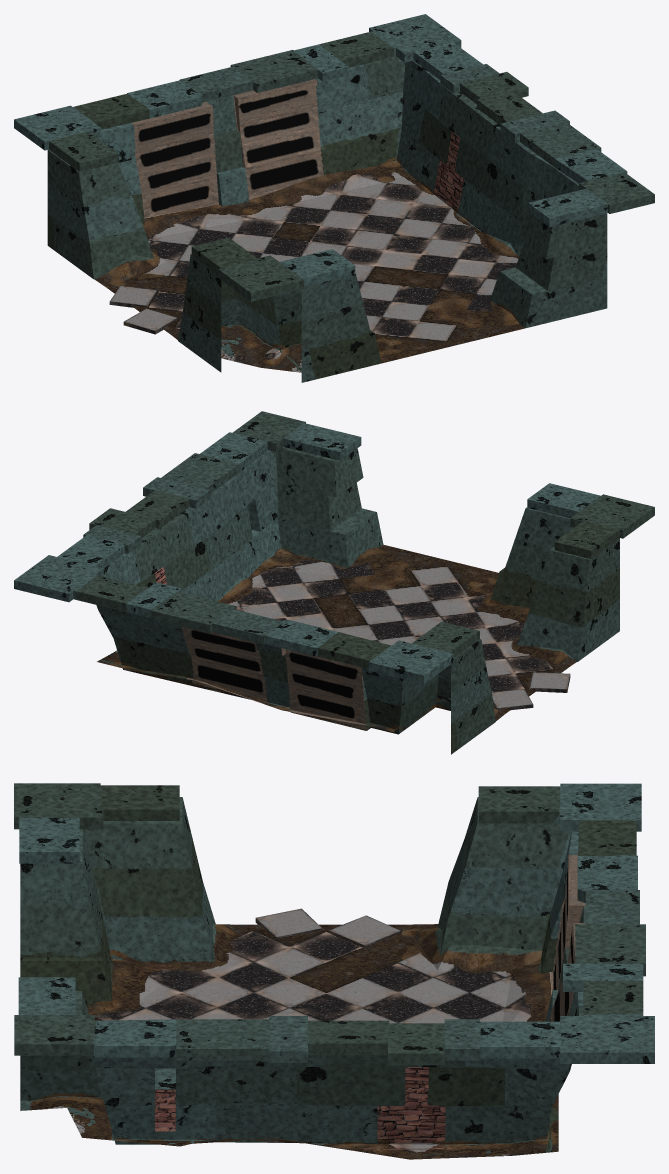
The model's file is 4x4 turn.fbx.
The picture shows the model from 3 angles, top to bottom: view 1: azimuth 30°, elevation 25°; view 2: azimuth 150°, elevation 25°; view 3: azimuth 270°, elevation 25°; orthographic projection. The views are drawn at different scales.
Parts seen in each view (by area): view 1: room q LP; view 2: room q LP; view 3: room q LP.
Boxes of the visible parts, x1,y1,x2,y2 form: room q LP: (14, 14, 654, 382); room q LP: (14, 411, 654, 754); room q LP: (14, 783, 654, 1159).
Bounding box in the file's own units: 1313 × 308 × 1260.
